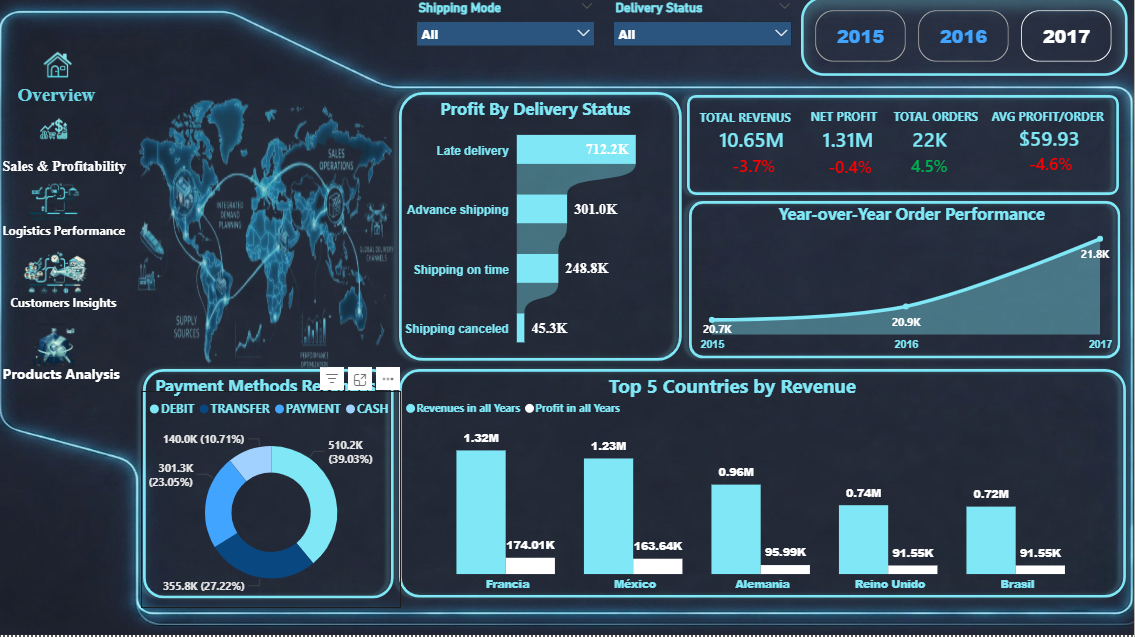

Layout of this report page (visuals, bound fields, positions):
{"tool":"powerbi","page":{"name":"OverView","canvas":[1280,720],"ordinal":0},"visuals":[{"type":"image","box":[0,0,1280,720],"z":0},{"type":"shape","box":[15,15.5,138.9,50],"z":1000},{"type":"textbox","box":[17.2,94.6,112.3,41.5],"z":1000,"group":"g3"},{"type":"shape","box":[442.9,99.4,336.6,320.9],"z":2000},{"type":"textbox","box":[0,178.5,173.3,43.3],"z":2000,"group":"g6"},{"type":"shape","box":[769,221.5,504,195.3],"z":2000,"group":"g4"},{"type":"barChart","fields":{"Y":["NewOrderItem.Profit in all Years"],"Category":["Dim_Shipping.Delivery Status"]},"box":[440.9,121.6,334.1,298.9],"z":3000},{"type":"areaChart","fields":{"Category":["Date Table.Date Hierarchy.Year","Date Table.Date Hierarchy.Quarter","Date Table.Date Hierarchy.Month Name"],"Y":["Count(NewOrderItem.Order Id)"]},"box":[784.4,244.1,475.4,163.9],"z":3000,"group":"g4"},{"type":"textbox","box":[0,250.2,155.6,33.3],"z":3000,"group":"g7"},{"type":"group","id":"g1","title":"Group 2","box":[767.3,102.9,504.7,130.6],"z":4000},{"type":"textbox","box":[866.2,227.3,326.2,56.9],"z":4000,"group":"g4"},{"type":"textbox","box":[9,331.1,144.4,34.4],"z":5000,"group":"g8"},{"type":"textbox","box":[160.8,421.6,279.7,56.8],"z":5000},{"type":"image","box":[20.3,43.8,93.8,66.2],"z":5001,"group":"g3"},{"type":"textbox","box":[442.6,108.8,325,39.7],"z":6000},{"type":"textbox","box":[0,409.2,144.4,32.2],"z":7000,"group":"g9"},{"type":"group","id":"g2","title":"Group 4","box":[442.9,411.6,837.1,275.5],"z":7000},{"type":"advancedSlicerVisual","fields":{"Values":["Date Table.Year"]},"box":[905,0,368.3,90],"z":8000},{"type":"group","id":"g3","title":"Group 1","box":[17.2,43.8,112.3,92.3],"z":8000,"group":"g5"},{"type":"image","box":[14.4,120.7,95.6,64],"z":9000,"group":"g6"},{"type":"cardVisual","fields":{"Data":["NewOrderItem.YOY Growth %"]},"box":[786.5,161.5,130.8,57.5],"z":9000},{"type":"shape","box":[154.6,411.4,300.4,276.5],"z":10000},{"type":"shape","box":[767.3,102.9,504.7,130.6],"z":11000,"group":"g1"},{"type":"cardVisual","fields":{"Data":["NewOrderItem.YOY Growth (Profit%)"]},"box":[885.9,160.7,150,59.3],"z":11000},{"type":"image","box":[16.8,278.9,94.4,64.4],"z":11000,"group":"g8"},{"type":"cardVisual","fields":{"Data":["NewOrderItem.YOY Growth (Orders%)"]},"box":[953.6,155.8,192.5,69.1],"z":12000},{"type":"cardVisual","fields":{"Data":["NewOrderItem.YOY Growth (Avg Profit per Order%)"]},"box":[1115.5,154.4,142,66.5],"z":13000},{"type":"image","box":[14.4,360.3,95.6,65.6],"z":13000,"group":"g9"},{"type":"shape","box":[442.9,411.6,837.1,275.5],"z":13000,"group":"g2"},{"type":"group","id":"g4","title":"Group 9","box":[769,221.5,504,195.3],"z":14000},{"type":"donutChart","fields":{"Category":["NewOrderItem.Type"],"Y":["NewOrderItem.Profit in all Years"]},"box":[160.8,444.6,293.2,244.6],"z":15000},{"type":"image","box":[125.1,74.4,343.7,406.8],"z":16000},{"type":"image","box":[16.7,205.8,94.4,50],"z":16000,"group":"g7"},{"type":"slicer","fields":{"Values":["Dim_Shipping.Delivery Status"]},"box":[682.7,0,222.4,90.5],"z":17000},{"type":"cardVisual","fields":{"Data":["NewOrderItem.Revenues in this year"]},"box":[775.2,130.1,148.7,59.2],"z":17000,"group":"g1"},{"type":"group","id":"g5","title":"Group 8","box":[0,43.8,173.3,397.6],"z":18000},{"type":"cardVisual","fields":{"Data":["NewOrderItem.Profit in this year"]},"box":[863.9,128.9,187,63.1],"z":18000,"group":"g1"},{"type":"pageNavigator","box":[0,76.6,135.2,382],"z":19000},{"type":"cardVisual","fields":{"Data":["NewOrderItem.Total Orders in this year"]},"box":[982.3,132.2,135,55],"z":19000,"group":"g1"},{"type":"slicer","fields":{"Values":["Dim_Shipping.Shipping Mode"]},"box":[461.4,0,221.6,89.8],"z":20000},{"type":"group","id":"g6","title":"Group 3","box":[0,120.7,173.3,101.1],"z":20000,"group":"g5"},{"type":"cardVisual","fields":{"Data":["NewOrderItem.Avg Profit per Order in this year"]},"box":[1101.6,132.7,165.7,54.1],"z":20000,"group":"g1"},{"type":"clusteredColumnChart","fields":{"Category":["Dim_Location.Order Country"],"Y":["NewOrderItem.Revenues in all Years","NewOrderItem.Profit in all Years"]},"box":[454.2,445.3,814.5,237.3],"z":20000,"group":"g2"},{"type":"group","id":"g7","title":"Group 5","box":[0,205.8,155.6,77.8],"z":21000,"group":"g5"},{"type":"textbox","box":[657,419.3,341.3,56.6],"z":21000,"group":"g2"},{"type":"textbox","box":[910.5,122,93,33.6],"z":22000,"group":"g1"},{"type":"group","id":"g8","title":"Group 6","box":[9,278.9,144.4,86.7],"z":22000,"group":"g5"},{"type":"textbox","box":[1003.5,122,131,33.6],"z":23000,"group":"g1"},{"type":"group","id":"g9","title":"Group 7","box":[0,360.3,144.4,81.1],"z":23000,"group":"g5"},{"type":"textbox","box":[1113.8,122.3,151.7,38.4],"z":24000,"group":"g1"},{"type":"textbox","box":[785.7,123.3,138.2,27.6],"z":28000,"group":"g1"}]}

Visuals, with their boxes in screenshot pixels (x1, y1, x2, y2), scaled from the page's 1280x720 canvas onto the 1135x637 screenshot:
image: locate(0, 0, 1134, 636)
shape: locate(13, 14, 136, 58)
textbox: locate(15, 84, 115, 120)
shape: locate(393, 88, 691, 372)
textbox: locate(0, 158, 154, 196)
shape: locate(682, 196, 1129, 369)
barChart - NewOrderItem.Profit in all Years x Dim_Shipping.Delivery Status: locate(391, 108, 687, 372)
areaChart - Date Table.Date Hierarchy.Year x Date Table.Date Hierarchy.Quarter: locate(696, 216, 1117, 361)
textbox: locate(0, 221, 138, 251)
"Group 2" group: locate(680, 91, 1128, 207)
textbox: locate(768, 201, 1057, 251)
textbox: locate(8, 293, 136, 323)
textbox: locate(143, 373, 391, 423)
image: locate(18, 39, 101, 97)
textbox: locate(392, 96, 681, 131)
textbox: locate(0, 362, 128, 391)
"Group 4" group: locate(393, 364, 1134, 608)
advancedSlicerVisual - Date Table.Year: locate(802, 0, 1129, 80)
"Group 1" group: locate(15, 39, 115, 120)
image: locate(13, 107, 98, 163)
cardVisual - NewOrderItem.YOY Growth %: locate(697, 143, 813, 194)
shape: locate(137, 364, 403, 609)
shape: locate(680, 91, 1128, 207)
cardVisual - NewOrderItem.YOY Growth (Profit%): locate(786, 142, 919, 195)
image: locate(15, 247, 99, 304)
cardVisual - NewOrderItem.YOY Growth (Orders%): locate(846, 138, 1016, 199)
cardVisual - NewOrderItem.YOY Growth (Avg Profit per Order%): locate(989, 137, 1115, 195)
image: locate(13, 319, 98, 377)
shape: locate(393, 364, 1134, 608)
"Group 9" group: locate(682, 196, 1129, 369)
donutChart - NewOrderItem.Type x NewOrderItem.Profit in all Years: locate(143, 393, 403, 610)
image: locate(111, 66, 416, 426)
image: locate(15, 182, 99, 226)
slicer - Dim_Shipping.Delivery Status: locate(605, 0, 803, 80)
cardVisual - NewOrderItem.Revenues in this year: locate(687, 115, 819, 167)
"Group 8" group: locate(0, 39, 154, 391)
cardVisual - NewOrderItem.Profit in this year: locate(766, 114, 932, 170)
pageNavigator: locate(0, 68, 120, 406)
cardVisual - NewOrderItem.Total Orders in this year: locate(871, 117, 991, 166)
slicer - Dim_Shipping.Shipping Mode: locate(409, 0, 606, 79)
"Group 3" group: locate(0, 107, 154, 196)
cardVisual - NewOrderItem.Avg Profit per Order in this year: locate(977, 117, 1124, 165)
clusteredColumnChart - Dim_Location.Order Country x NewOrderItem.Revenues in all Years: locate(403, 394, 1125, 604)
"Group 5" group: locate(0, 182, 138, 251)
textbox: locate(583, 371, 885, 421)
textbox: locate(807, 108, 890, 138)
"Group 6" group: locate(8, 247, 136, 323)
textbox: locate(890, 108, 1006, 138)
"Group 7" group: locate(0, 319, 128, 391)
textbox: locate(988, 108, 1122, 142)
textbox: locate(697, 109, 819, 134)
